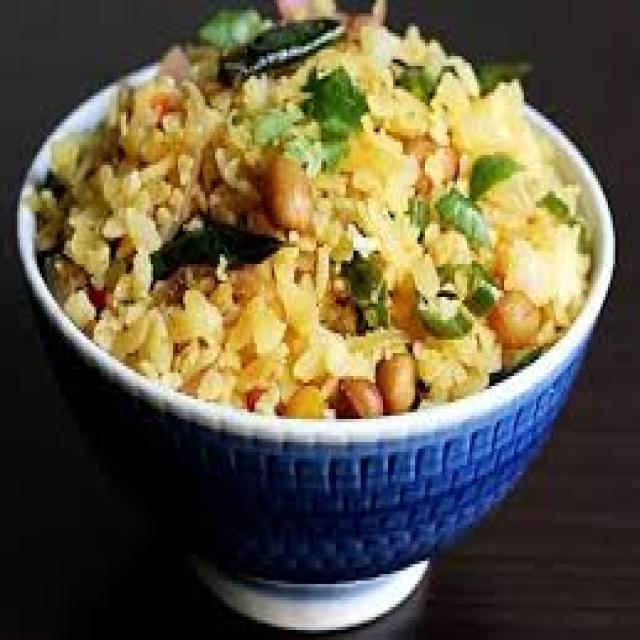UPMA: (27, 0, 591, 412)
